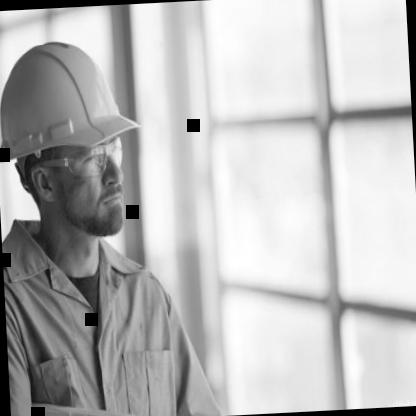helmet: (0, 3, 155, 278)
